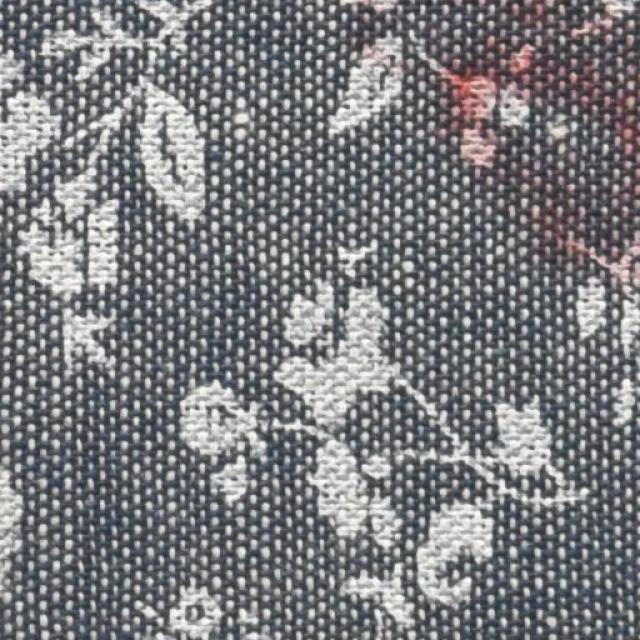Stain: (384, 0, 639, 287)
